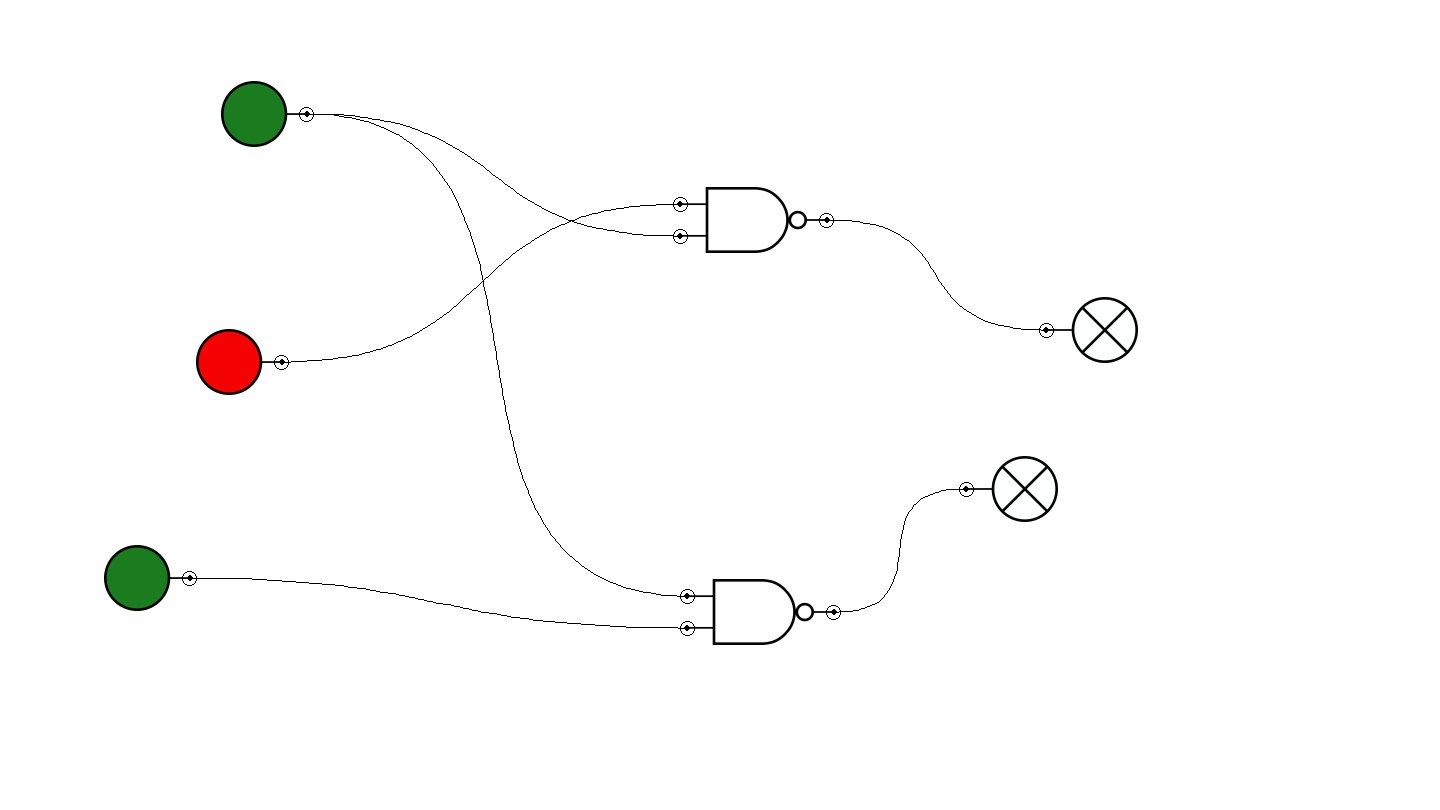bulb: (1039, 297, 1138, 363), (959, 456, 1058, 522)
nand: (680, 579, 841, 645), (673, 187, 834, 253)
switch_False: (196, 329, 289, 395)
switch_True: (104, 545, 197, 611), (221, 81, 314, 147)
